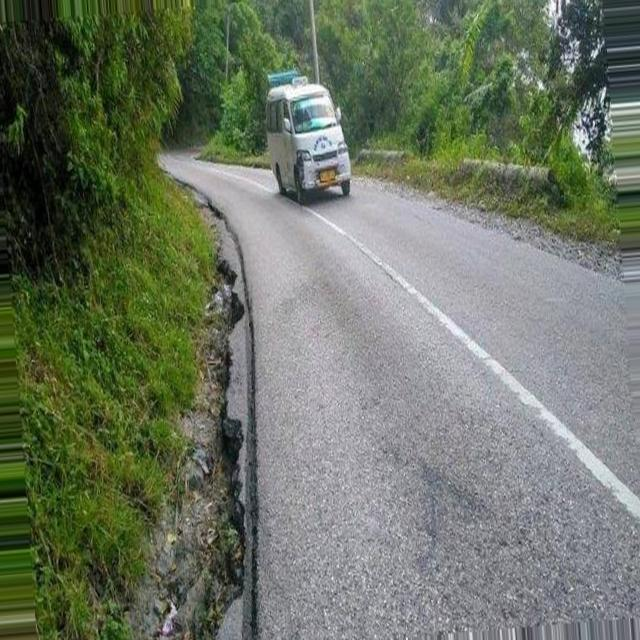Pinggir: (164, 205, 272, 640)
